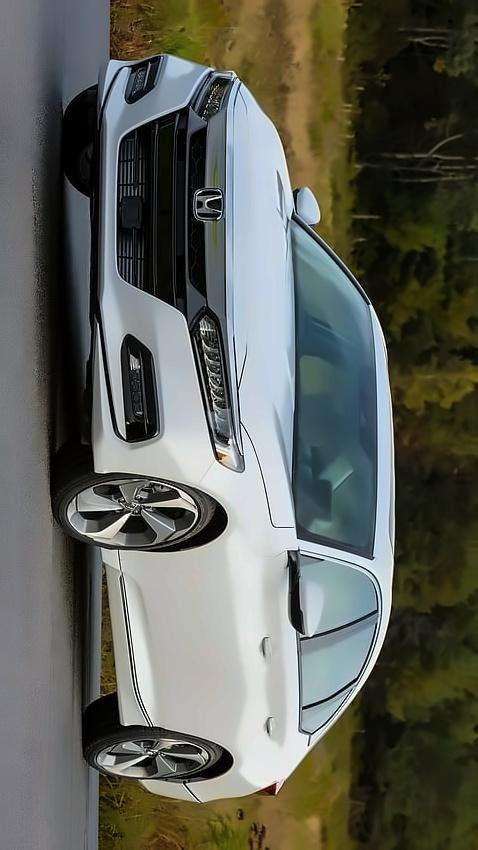Car hood: (230, 70, 303, 531)
Fender - -R-L-: (142, 716, 291, 804)
Front bumper: (85, 47, 199, 478)
Headlight - -L-: (184, 302, 255, 475)
Headlight - -R-: (182, 57, 246, 132)
Passenger-s door - -F-L-: (114, 546, 391, 665)
Passenger-s door - -R-L-: (120, 611, 392, 756)
Rear bumper: (129, 770, 204, 818)
Rear light - -L-: (250, 774, 287, 804)
Side bumper - -L-: (97, 540, 156, 736)
Side mirror - -L-: (274, 553, 335, 649)
Side mirror - -R-: (283, 167, 329, 230)
